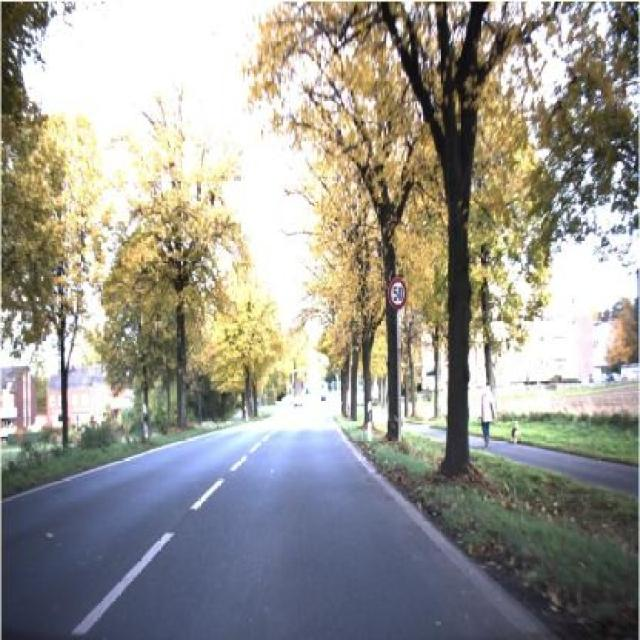forb_speed_over_50: (387, 275, 408, 312)
